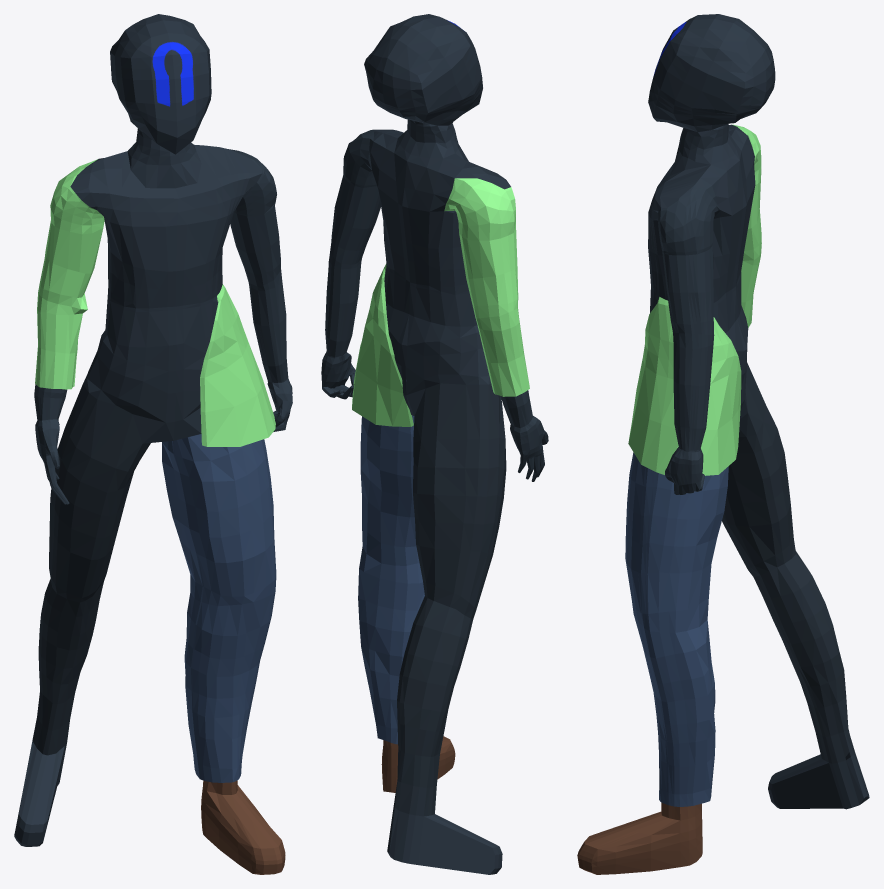
File: Mar_Recover_000003.obj
3 views of the same model, side by side, from view 1: azimuth 30°, elevation 25°; view 2: azimuth 150°, elevation 25°; view 3: azimuth 270°, elevation 25° (orthographic). The views are drawn at different scales.
Parts seen in each view (by area): view 1: Cube.000_Cube.001; view 2: Cube.000_Cube.001; view 3: Cube.000_Cube.001.
Part boxes in pixels (bbox=[...]): Cube.000_Cube.001: bbox=[14, 14, 292, 874]; Cube.000_Cube.001: bbox=[321, 14, 548, 874]; Cube.000_Cube.001: bbox=[577, 14, 869, 874].
Bounding box in the file's own units: 1.19 × 3.98 × 1.27.
